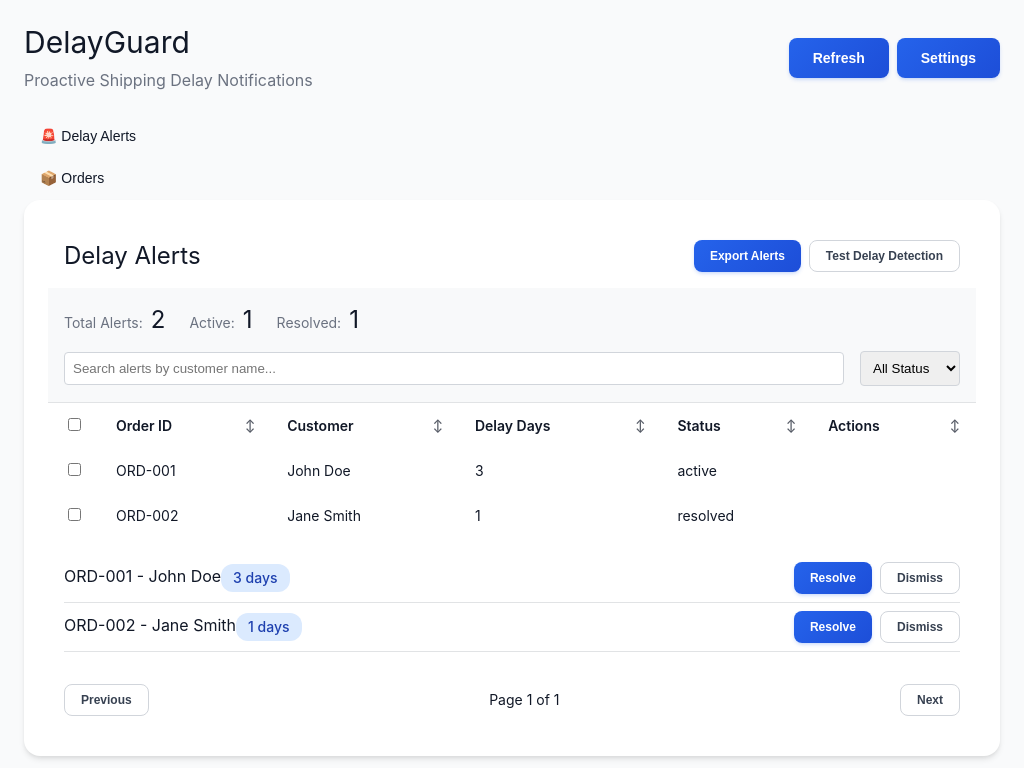
Test case: MinimalApp › should handle tab switching between alerts and orders
Check: the heading "DelayGuard" is shown, box [24,24,190,60]
// Switch to orders tab
What coordinates should you click on to do the following:
click the tab with test id "tab-orders"
I would click on:
 (72, 179)
Its box is [24,158,120,200].
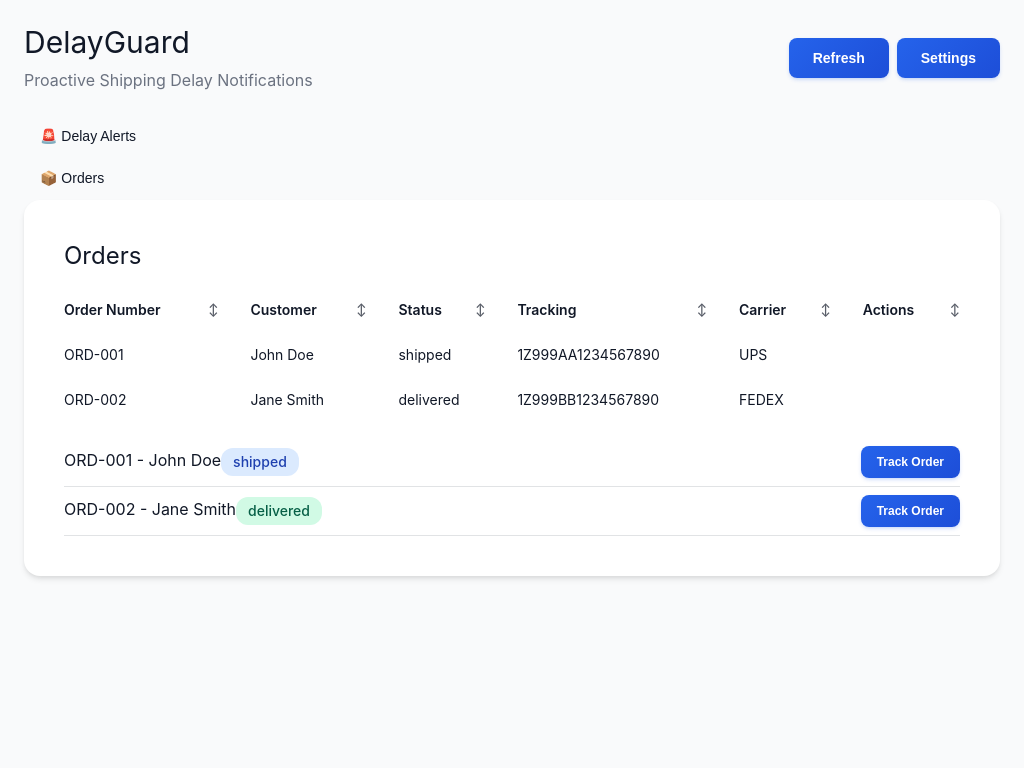
Check: the text "ORD-001" is shown, box [48,332,234,377]
